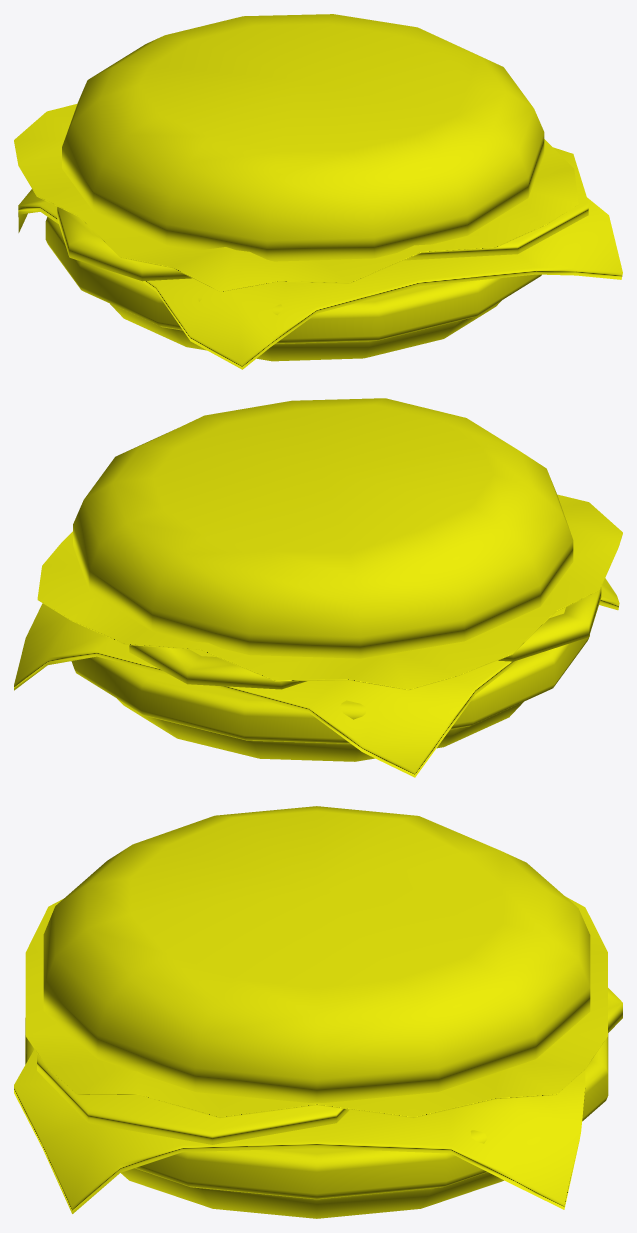
3 renders of one model, top to bottom at view 1: azimuth 30°, elevation 25°; view 2: azimuth 150°, elevation 25°; view 3: azimuth 270°, elevation 25°, orthographic. The views are drawn at different scales.
Parts seen in each view (by area): view 1: Burger1; view 2: Burger1; view 3: Burger1.
Part boxes in pixels (left/top/right/bottom): Burger1: left=14, top=14, right=622, bottom=369; Burger1: left=14, top=398, right=622, bottom=777; Burger1: left=14, top=806, right=622, bottom=1218.
Size of the model in its own units: 0.0705 by 0.0294 by 0.0683.
Materials: 1 (1 with a texture image).
